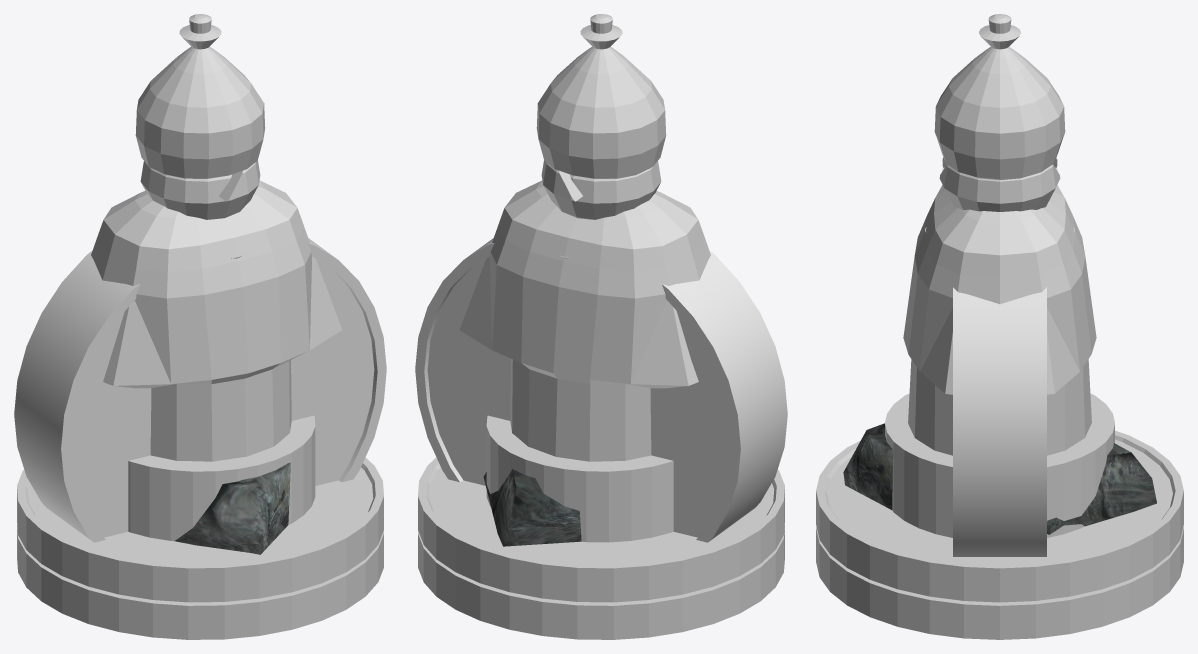
The model's file is pieces.glb.
3 renders of one model, left to right at view 1: azimuth 30°, elevation 25°; view 2: azimuth 150°, elevation 25°; view 3: azimuth 270°, elevation 25°, orthographic.
Visible parts, largest first — view 1: sorcerer, wheel, checker-kinged, checker, hat, rock, bishop; view 2: sorcerer, wheel, checker-kinged, checker, hat, rock, bishop; view 3: sorcerer, checker-kinged, wheel, checker, hat, rock, bishop.
Part boxes in pixels (<box>): sorcerer: <box>91,14,342,461</box>; wheel: <box>14,238,386,542</box>; checker-kinged: <box>17,457,383,602</box>; checker: <box>17,523,383,639</box>; hat: <box>128,415,315,540</box>; rock: <box>174,462,290,554</box>; bishop: <box>140,160,260,258</box>; sorcerer: <box>459,14,710,461</box>; wheel: <box>415,238,787,542</box>; checker-kinged: <box>418,457,784,602</box>; checker: <box>418,523,784,639</box>; hat: <box>486,415,673,542</box>; rock: <box>483,469,581,546</box>; bishop: <box>541,160,661,258</box>; sorcerer: <box>903,14,1096,455</box>; checker-kinged: <box>816,430,1183,602</box>; wheel: <box>953,287,1046,556</box>; checker: <box>816,527,1183,639</box>; hat: <box>885,393,1114,537</box>; rock: <box>843,423,1156,534</box>; bishop: <box>925,157,1074,232</box>.
Bounding box in the file's own units: 2 × 3.21 × 1.96.
2 materials, 1 textured.
